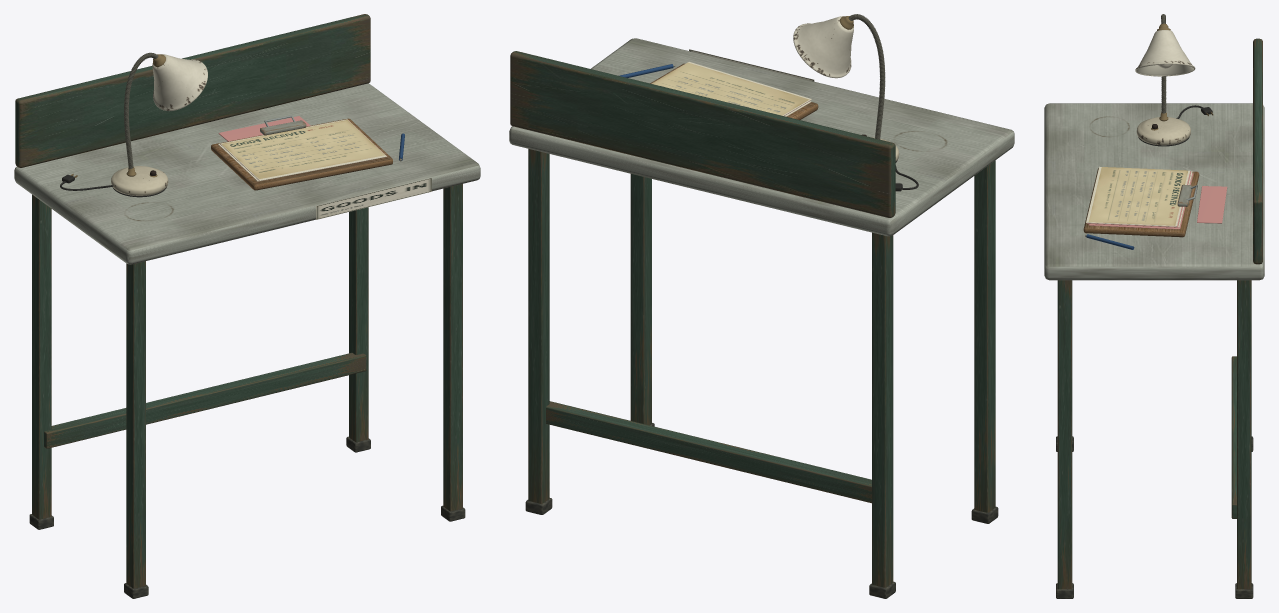
The model's file is 05_Dock_Check_In.glb.
3 renders of one model, left to right at view 1: azimuth 30°, elevation 25°; view 2: azimuth 150°, elevation 25°; view 3: azimuth 270°, elevation 25°, orthographic. The views are drawn at different scales.
Visible parts, largest first — view 1: Work surface.001, Square post, Galvanized splashback, Lower brace.001, Warehouse retained copy, Reflector | rolled steel shell, Fibreboard clipboard, Receiving bench plaque, Cast weighted foot, Rubber foot, Helical wound sheath, Detachable pink slip; view 2: Galvanized splashback, Square post, Work surface.001, Lower brace.001, Warehouse retained copy, Reflector | rolled steel shell, Rubber foot, Helical wound sheath; view 3: Work surface.001, Square post, Warehouse retained copy, Galvanized splashback, Reflector | rolled steel shell, Fibreboard clipboard, Cast weighted foot, Detachable pink slip, Lower brace.001, Rubber foot, Reflector | enamel lining, Carbonless copy sheets.003.
Part boxes in pixels (bbox=[...]): Work surface.001: bbox=[14, 83, 480, 264]; Square post: bbox=[32, 184, 462, 588]; Galvanized splashback: bbox=[15, 14, 370, 167]; Lower brace.001: bbox=[44, 352, 366, 448]; Warehouse retained copy: bbox=[222, 120, 384, 179]; Reflector | rolled steel shell: bbox=[152, 54, 207, 110]; Fibreboard clipboard: bbox=[211, 118, 392, 190]; Receiving bench plaque: bbox=[316, 178, 431, 219]; Cast weighted foot: bbox=[111, 166, 168, 195]; Rubber foot: bbox=[29, 436, 465, 598]; Helical wound sheath: bbox=[124, 52, 158, 168]; Detachable pink slip: bbox=[218, 116, 310, 141]; Galvanized splashback: bbox=[510, 51, 895, 217]; Square post: bbox=[528, 149, 995, 587]; Work surface.001: bbox=[509, 38, 1014, 236]; Lower brace.001: bbox=[546, 401, 871, 503]; Warehouse retained copy: bbox=[652, 62, 809, 115]; Reflector | rolled steel shell: bbox=[793, 16, 853, 77]; Rubber foot: bbox=[525, 423, 998, 598]; Helical wound sheath: bbox=[848, 14, 885, 139]; Work surface.001: bbox=[1044, 103, 1264, 280]; Square post: bbox=[1057, 280, 1251, 589]; Warehouse retained copy: bbox=[1088, 167, 1187, 225]; Galvanized splashback: bbox=[1253, 38, 1262, 264]; Reflector | rolled steel shell: bbox=[1135, 30, 1194, 76]; Fibreboard clipboard: bbox=[1083, 168, 1199, 237]; Cast weighted foot: bbox=[1136, 117, 1190, 145]; Detachable pink slip: bbox=[1197, 186, 1227, 223]; Lower brace.001: bbox=[1231, 356, 1236, 518]; Rubber foot: bbox=[1056, 436, 1253, 598]; Reflector | enamel lining: bbox=[1136, 64, 1193, 75]; Carbonless copy sheets.003: bbox=[1086, 166, 1190, 226].
Size of the model in its own units: 1.04 by 1.37 by 0.593.
21 materials, 10 textured.
